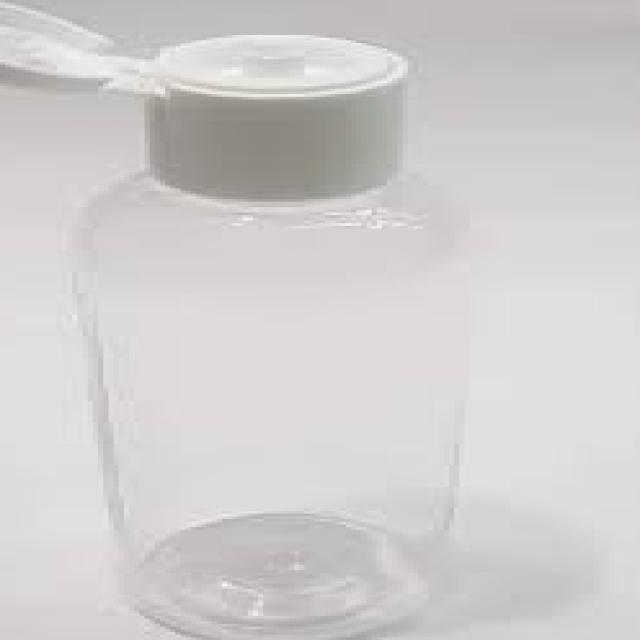organic: (6, 5, 497, 630)
